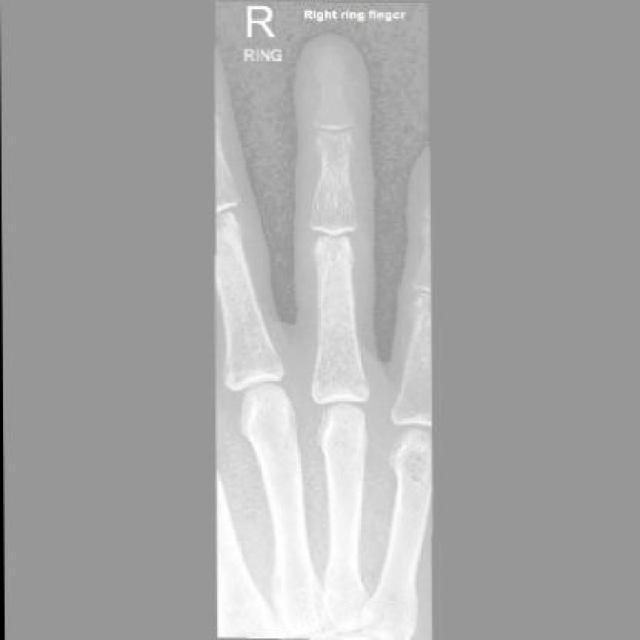Fracture: (314, 56, 348, 93)
